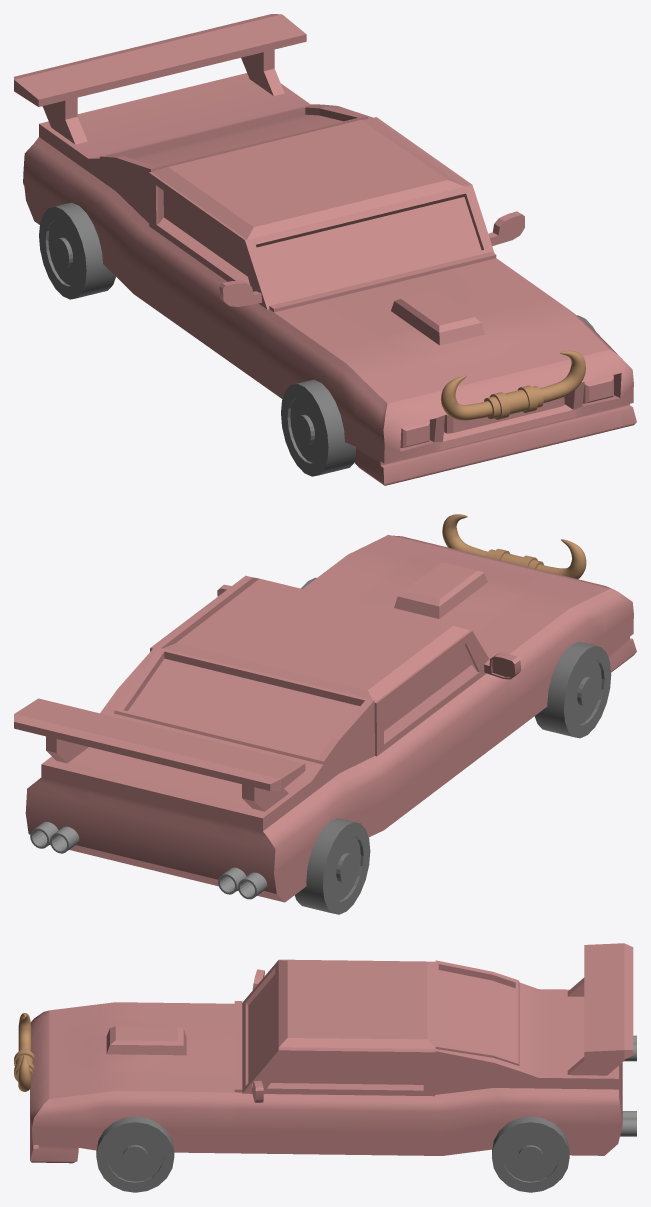
The model's file is Auto.fbx.
The picture shows the model from 3 angles, top to bottom: view 1: azimuth 30°, elevation 25°; view 2: azimuth 150°, elevation 25°; view 3: azimuth 270°, elevation 25°; orthographic projection. The views are drawn at different scales.
Visible parts, largest first — view 1: Auto, Alerones, Auto2, Auto4, Cuernos1, Retrovisor, Retrovisor2; view 2: Auto, Alerones, Auto2, Auto4, Cuernos1, Tubo_de_escape, Tubo_de_escape1, Retrovisor; view 3: Auto (×2), Alerones, Auto3, Cuernos1, Tubo_de_escape1.
Part boxes in pixels (x1=…): Auto: x1=23, y1=73, x2=636, y2=485; Alerones: x1=14, y1=14, x2=306, y2=144; Auto2: x1=281, y1=379, x2=355, y2=476; Auto4: x1=39, y1=202, x2=115, y2=299; Cuernos1: x1=441, y1=350, x2=585, y2=420; Retrovisor: x1=219, y1=280, x2=261, y2=306; Retrovisor2: x1=488, y1=211, x2=524, y2=245; Auto: x1=25, y1=535, x2=636, y2=902; Alerones: x1=14, y1=698, x2=305, y2=811; Auto2: x1=534, y1=642, x2=611, y2=738; Auto4: x1=294, y1=818, x2=370, y2=914; Cuernos1: x1=442, y1=514, x2=586, y2=578; Tubo_de_escape: x1=218, y1=867, x2=267, y2=899; Tubo_de_escape1: x1=30, y1=821, x2=79, y2=853; Retrovisor: x1=484, y1=652, x2=521, y2=679; Auto (×2): x1=30, y1=959, x2=622, y2=1192; Alerones: x1=567, y1=943, x2=633, y2=1075; Auto3: x1=492, y1=1116, x2=569, y2=1192; Cuernos1: x1=14, y1=1013, x2=34, y2=1091; Tubo_de_escape1: x1=620, y1=1111, x2=636, y2=1136.
Size of the model in its own units: 0.071 by 0.0389 by 0.1556.
